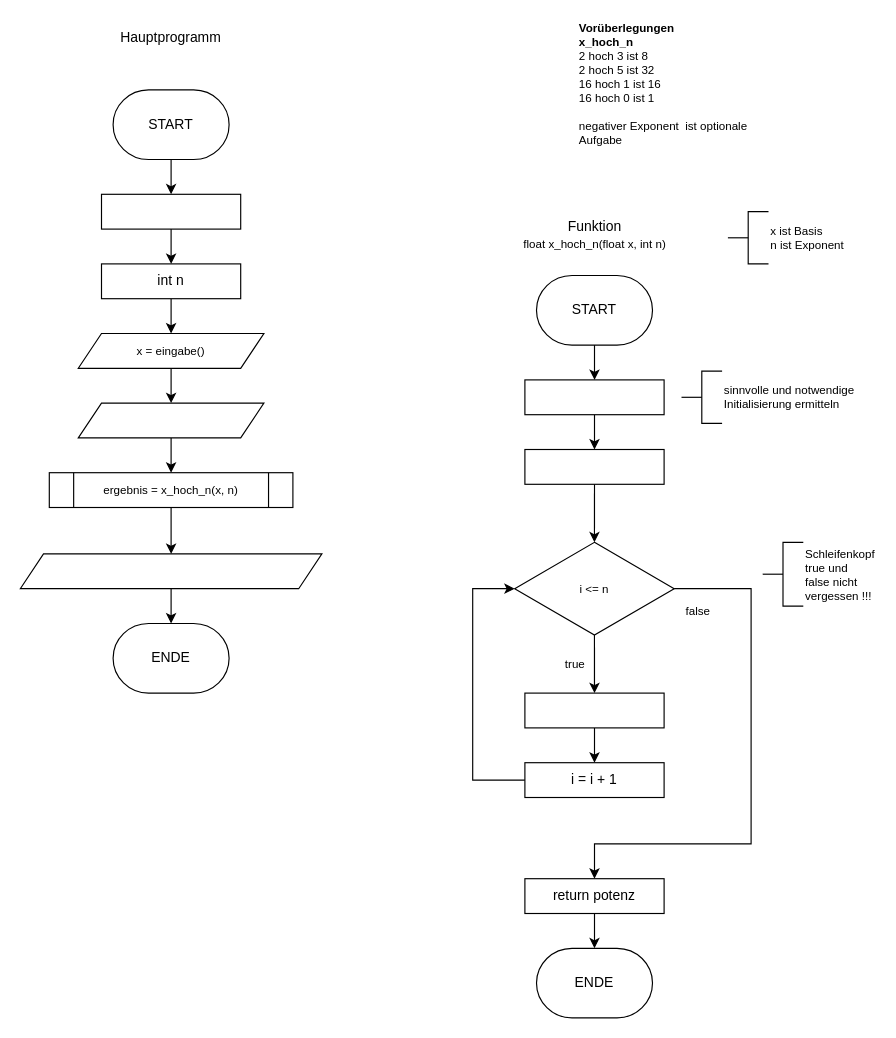
This 896x1038 diagram has some shape labels left out. Each missing label, with the centre of its shape:
ausgabe("Das Ergebnis ist: ", ergebnis): point 170,571
float potenz = 1: point 594,397
float x, ergebnis: point 170,211
int i = 1: point 594,466
n = eingabe(): point 170,420
potenz = potenz * x: point 594,710
